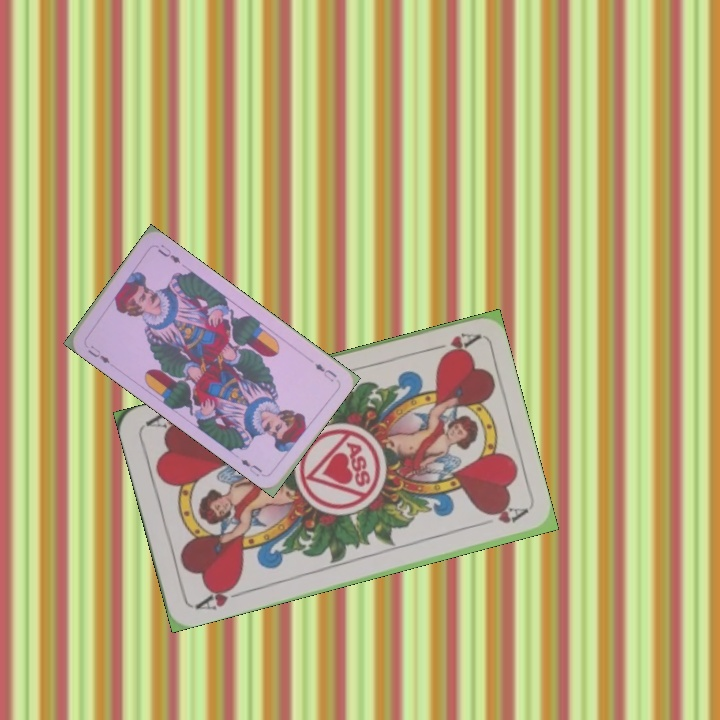EU: (83, 341, 113, 366), (311, 360, 340, 385)
HA: (191, 579, 248, 613), (422, 328, 481, 360)
